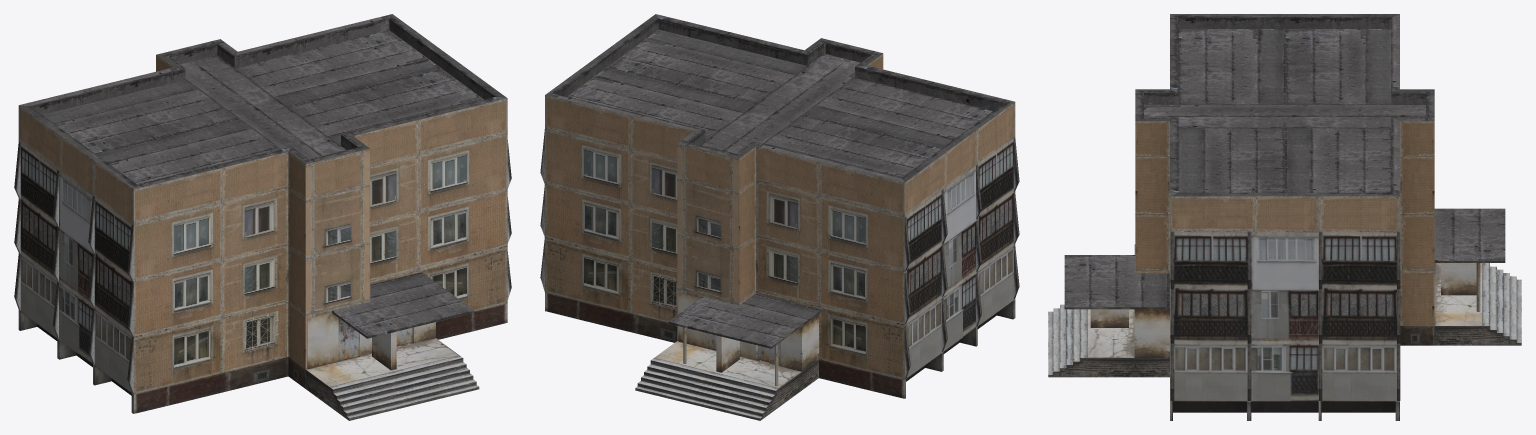
Rendered from panel house 3f.fbx.
The picture shows the model from 3 angles, left to right: view 1: azimuth 30°, elevation 25°; view 2: azimuth 150°, elevation 25°; view 3: azimuth 270°, elevation 25°; orthographic projection. The views are drawn at different scales.
Parts seen in each view (by area): view 1: Cube; view 2: Cube; view 3: Cube.
Part boxes in pixels (x1=…): Cube: x1=14, y1=14, x2=511, y2=420; Cube: x1=540, y1=14, x2=1019, y2=420; Cube: x1=1048, y1=14, x2=1521, y2=420.
Bounding box in the file's own units: 1782 × 1000 × 1909.
